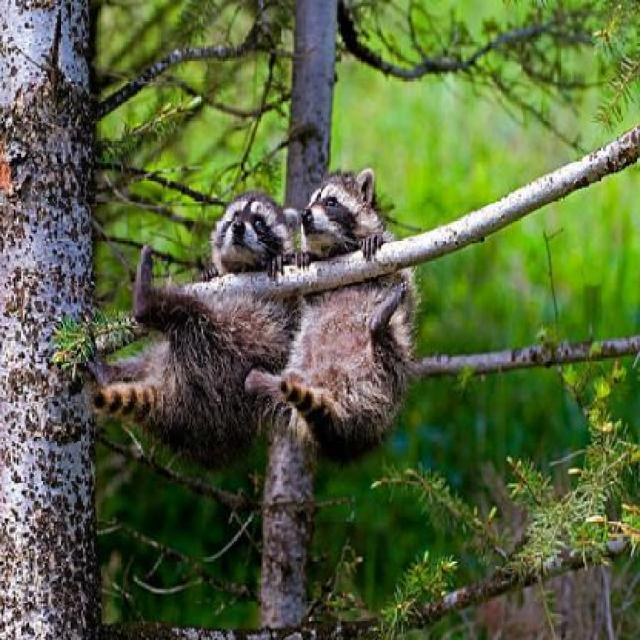raccon: (91, 187, 295, 447), (244, 165, 422, 452)
